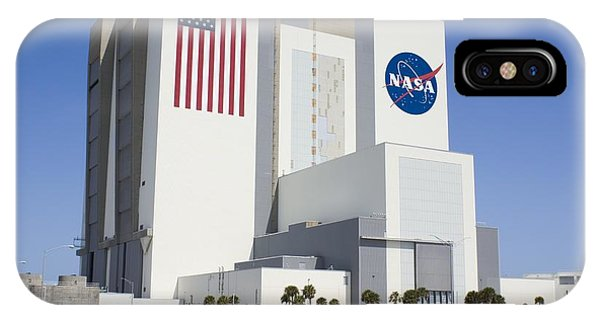NASA: (378, 50, 445, 118)
